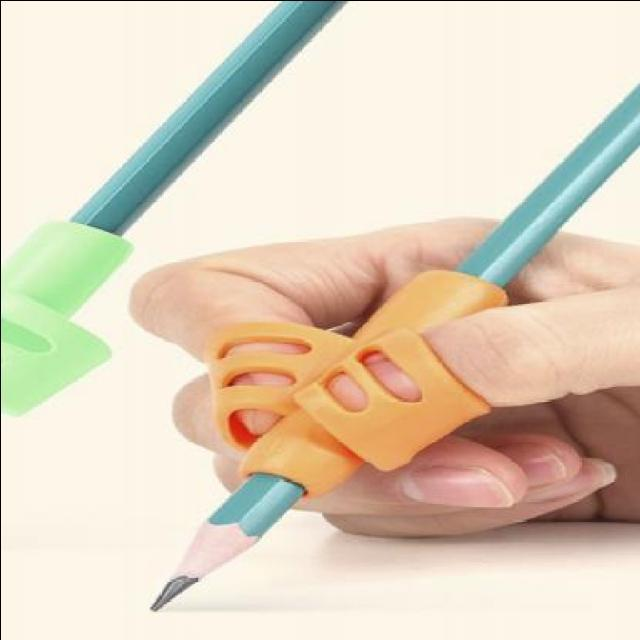pencil: (142, 486, 282, 610)
